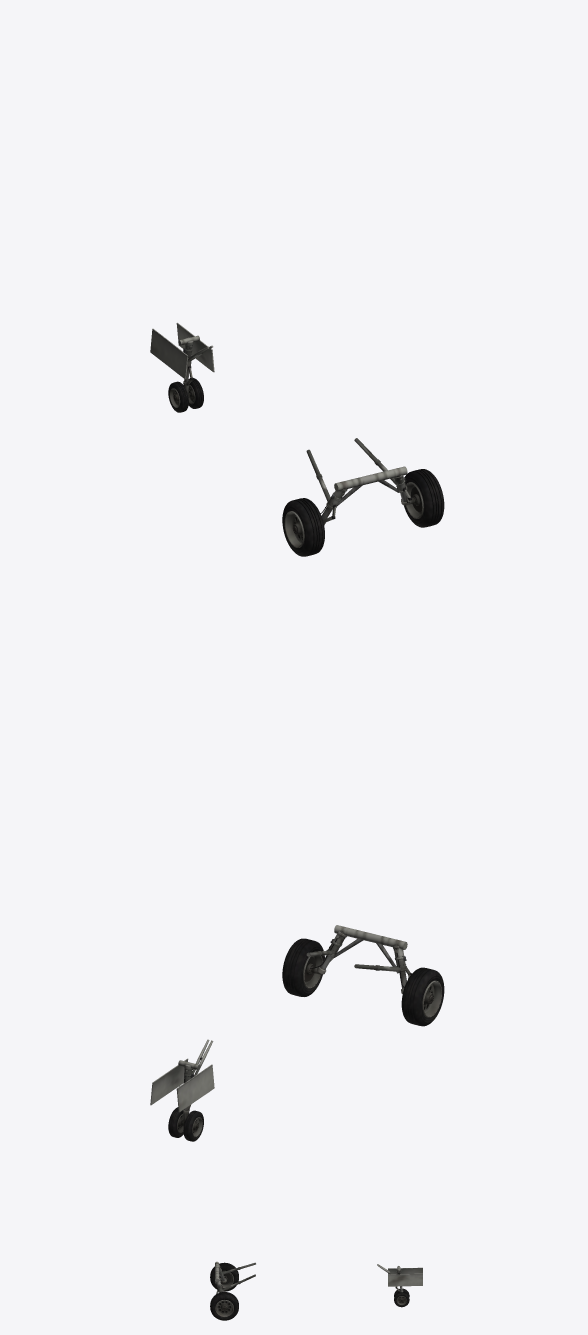
The model's file is e_f111_gear.glb.
3 renders of one model, top to bottom at view 1: azimuth 30°, elevation 25°; view 2: azimuth 150°, elevation 25°; view 3: azimuth 270°, elevation 25°, orthographic. The views are drawn at different scales.
Parts seen in each view (by area): view 1: body|F111_paint; view 2: body|F111_paint; view 3: body|F111_paint.
Boxes of the visible parts, <box> form: body|F111_paint: <box>150,322,444,556</box>; body|F111_paint: <box>150,925,444,1141</box>; body|F111_paint: <box>210,1261,422,1320</box>.
Size of the model in its own units: 3.22 by 5.95 by 22.44.
Materials: 1 (1 with a texture image).
